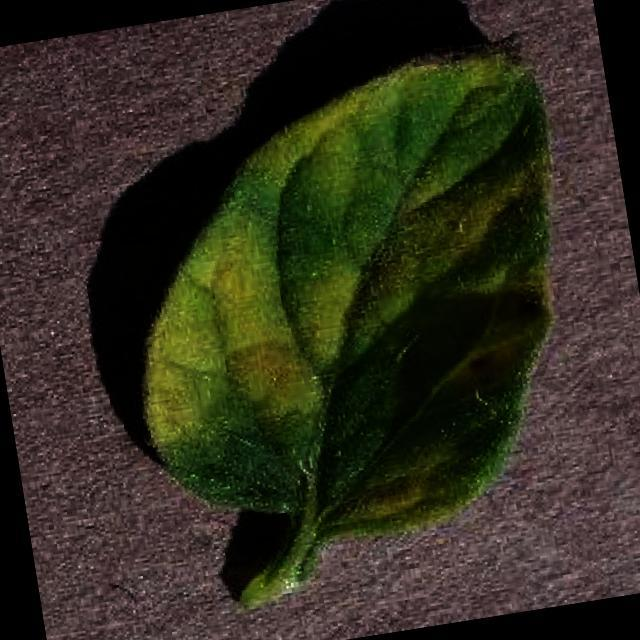Tomato mold leaf: (98, 38, 604, 565)
